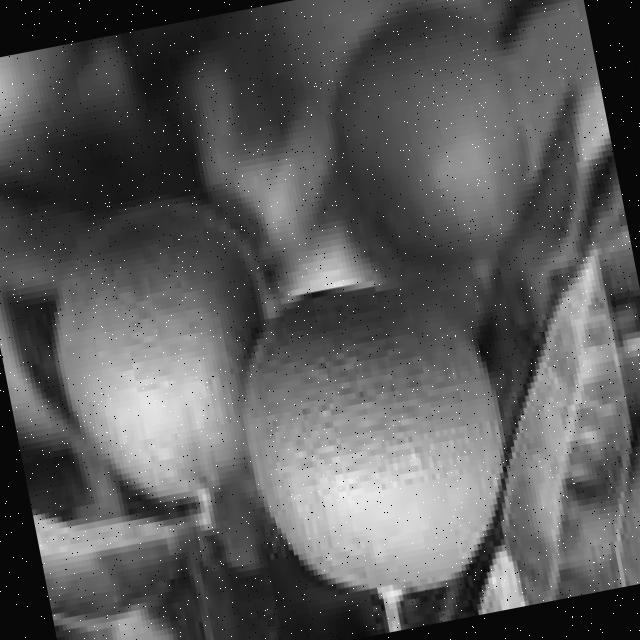Unripe: (219, 259, 532, 621), (27, 180, 308, 527), (318, 0, 548, 288)
